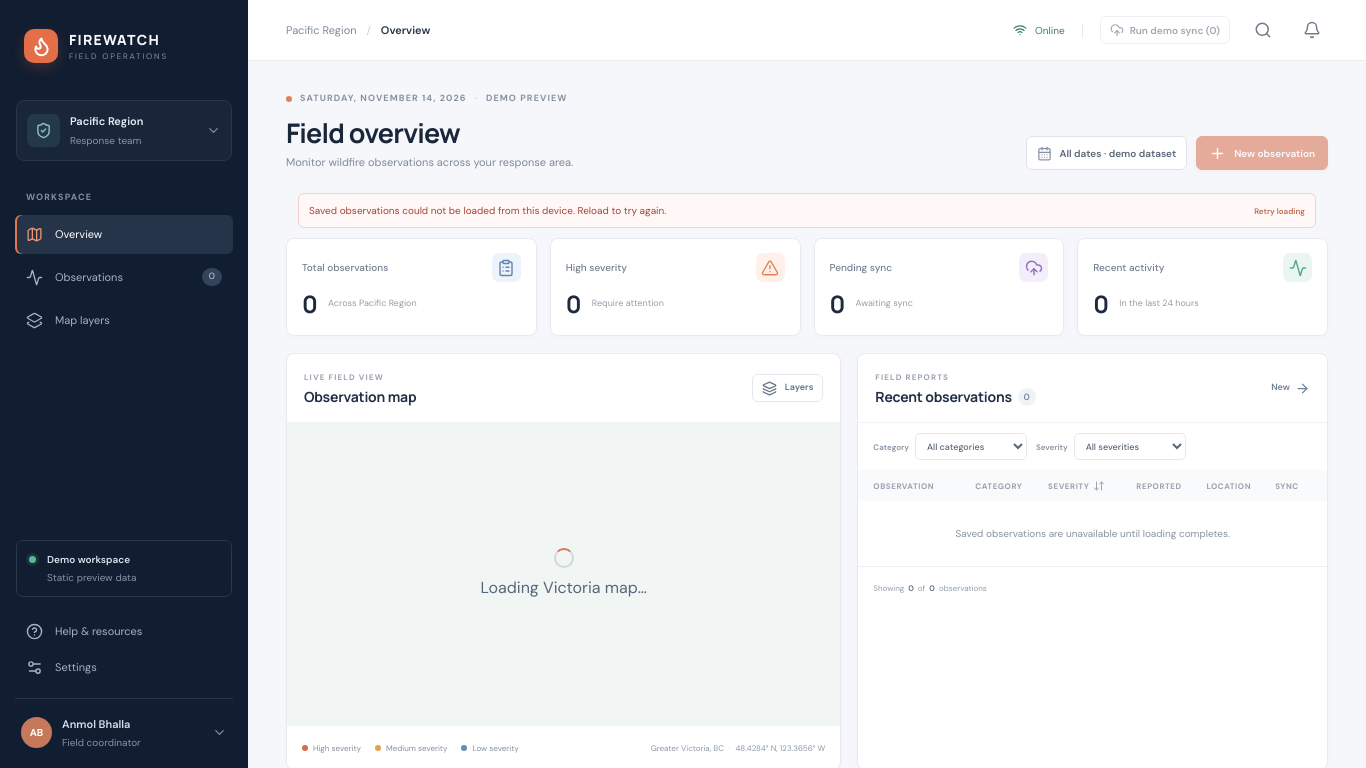
dashboard hydration gating › shows hydration errors and enables retry until the database loads successfully
Expected: the 2nd message shows "Saved observations could not be loaded", [309,204,666,217]
Expected: the button "New observation" is disabled, [1196,136,1328,170]
Click the button "Retry loading" at (1280, 210), box [1254,204,1305,216]
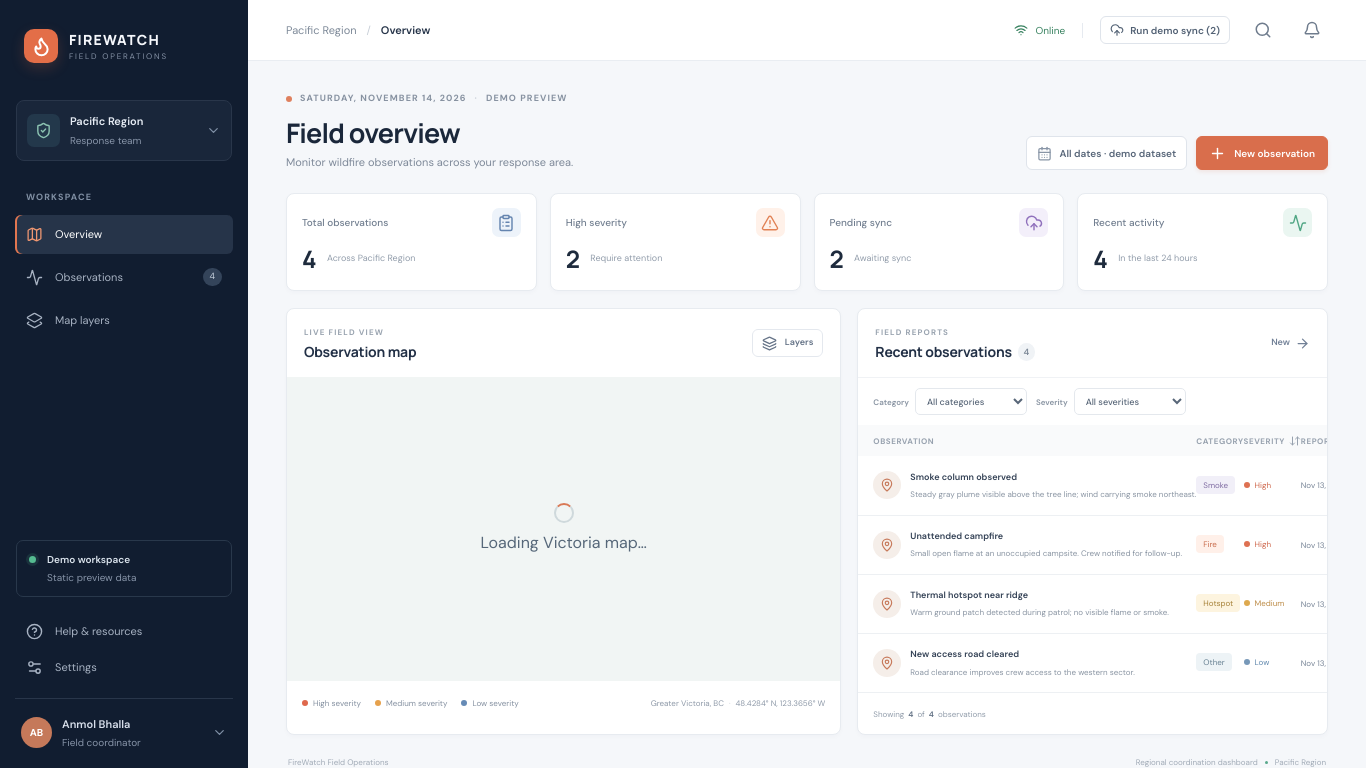
Result: the text "Smoke column observed" is shown at [910,470,1017,482]
Result: the button "New observation" is enabled at [1196,136,1328,170]
